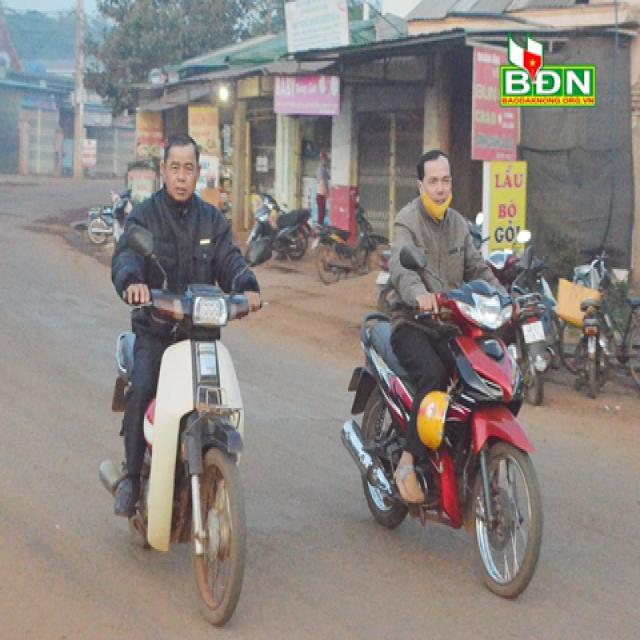no_helmet: (153, 120, 213, 218), (409, 142, 459, 225)
